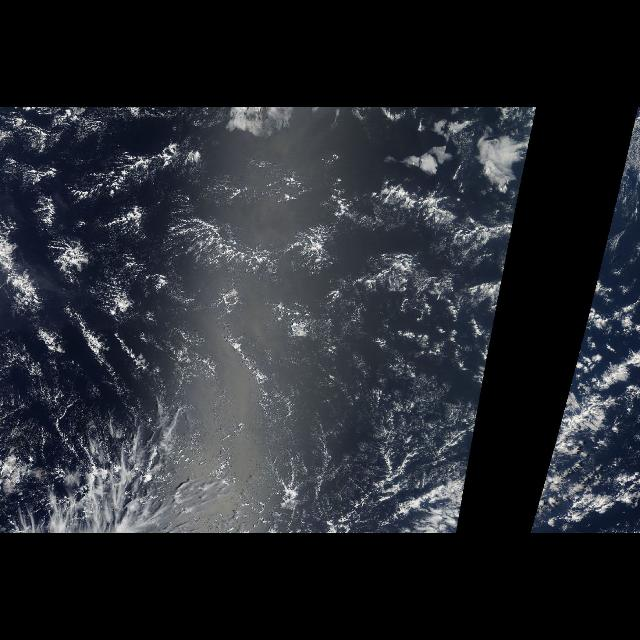Flower: (3, 196, 148, 362)
Gravel: (11, 123, 392, 395)
